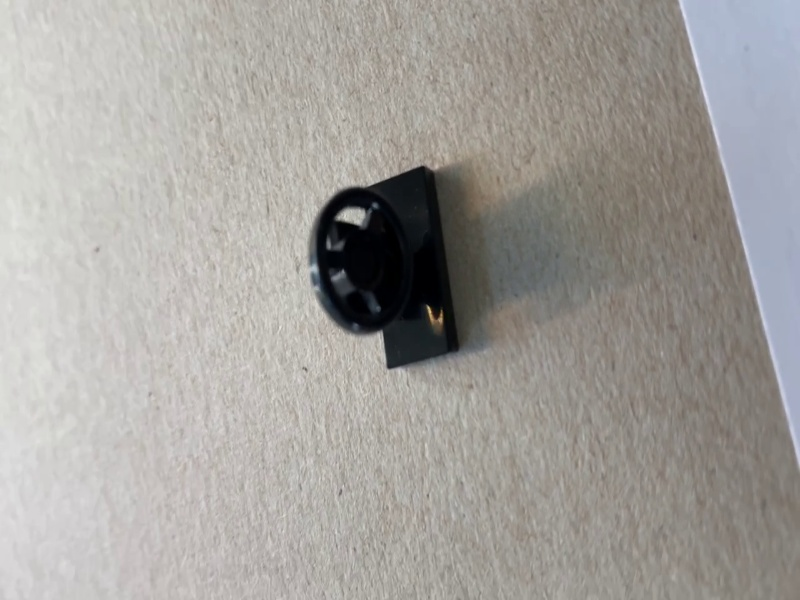steering wheel: (305, 165, 461, 367)
